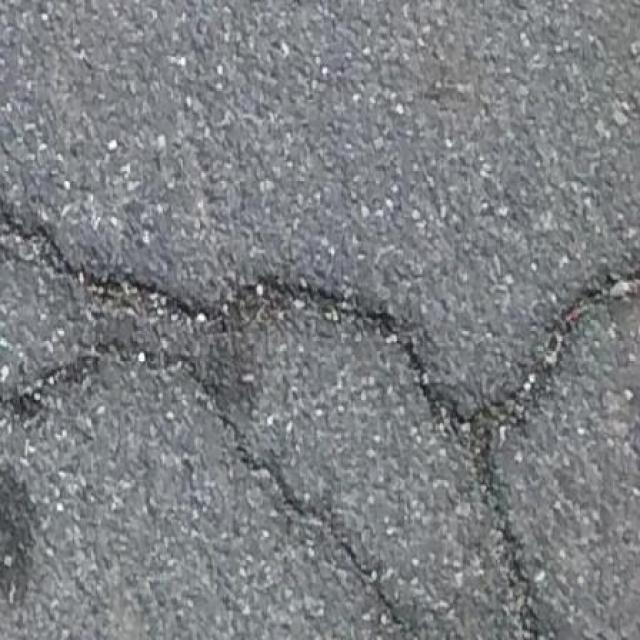Crack: (0, 209, 639, 639), (171, 356, 416, 640), (0, 351, 106, 418)
